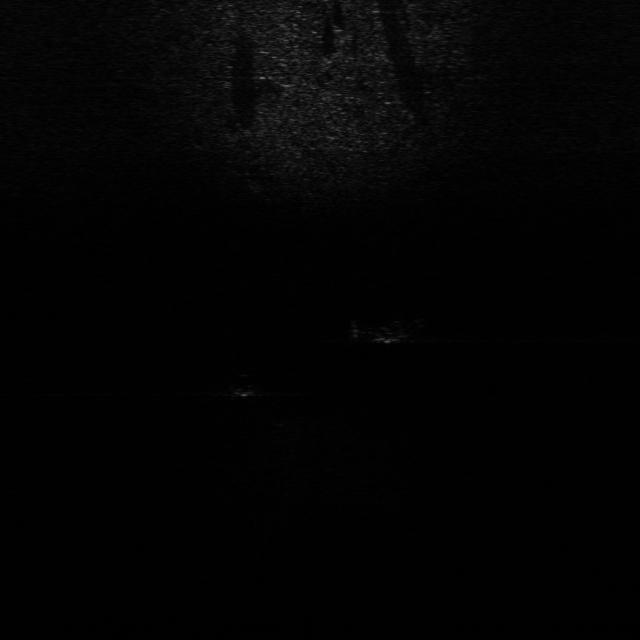ball: (228, 371, 262, 400)
human body: (346, 313, 436, 349)
